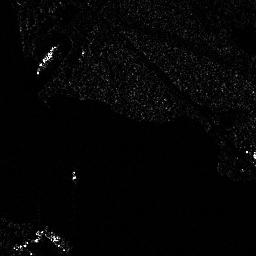ship: (36, 44, 56, 75)
